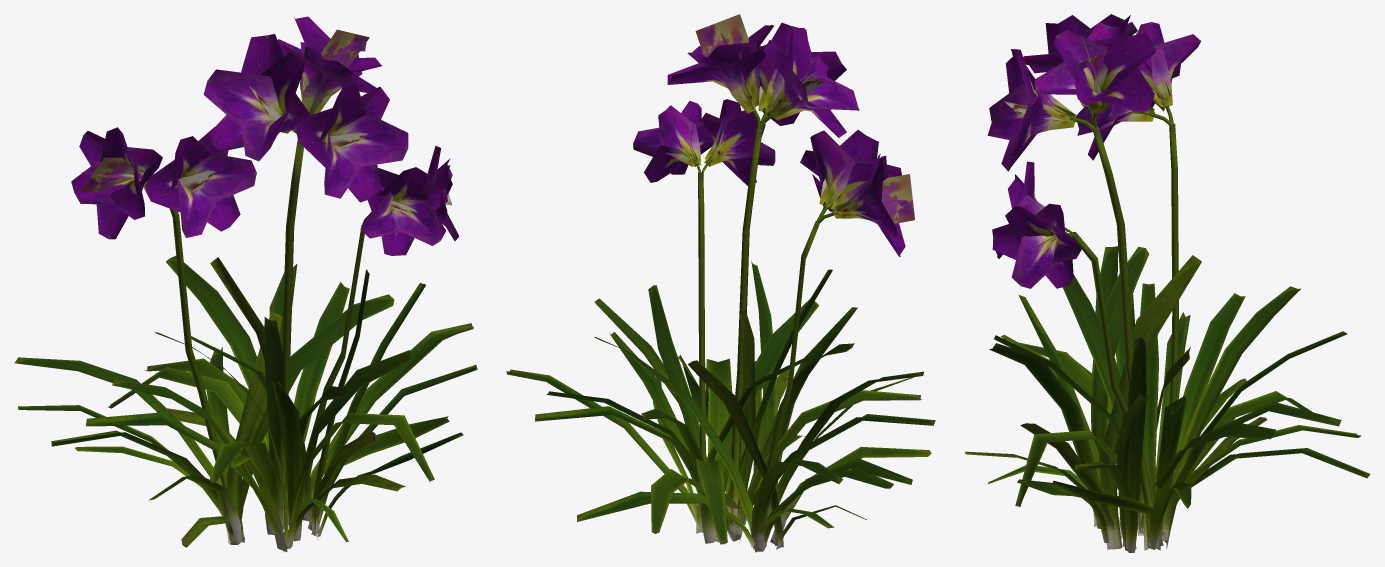
File: Amaryllis_bush_long_purple.glb
3 renders of one model, left to right at view 1: azimuth 30°, elevation 25°; view 2: azimuth 150°, elevation 25°; view 3: azimuth 270°, elevation 25°, orthographic. The views are drawn at different scales.
Visible parts, largest first — view 1: bush; view 2: bush; view 3: bush.
Boxes of the visible parts, box(x1,y1,x2,y2) form: bush: box(14, 16, 477, 552); bush: box(506, 14, 935, 552); bush: box(965, 14, 1370, 552).
Bounding box in the file's own units: 2.94 × 3.42 × 2.41.
Materials: 1 (1 with a texture image).
